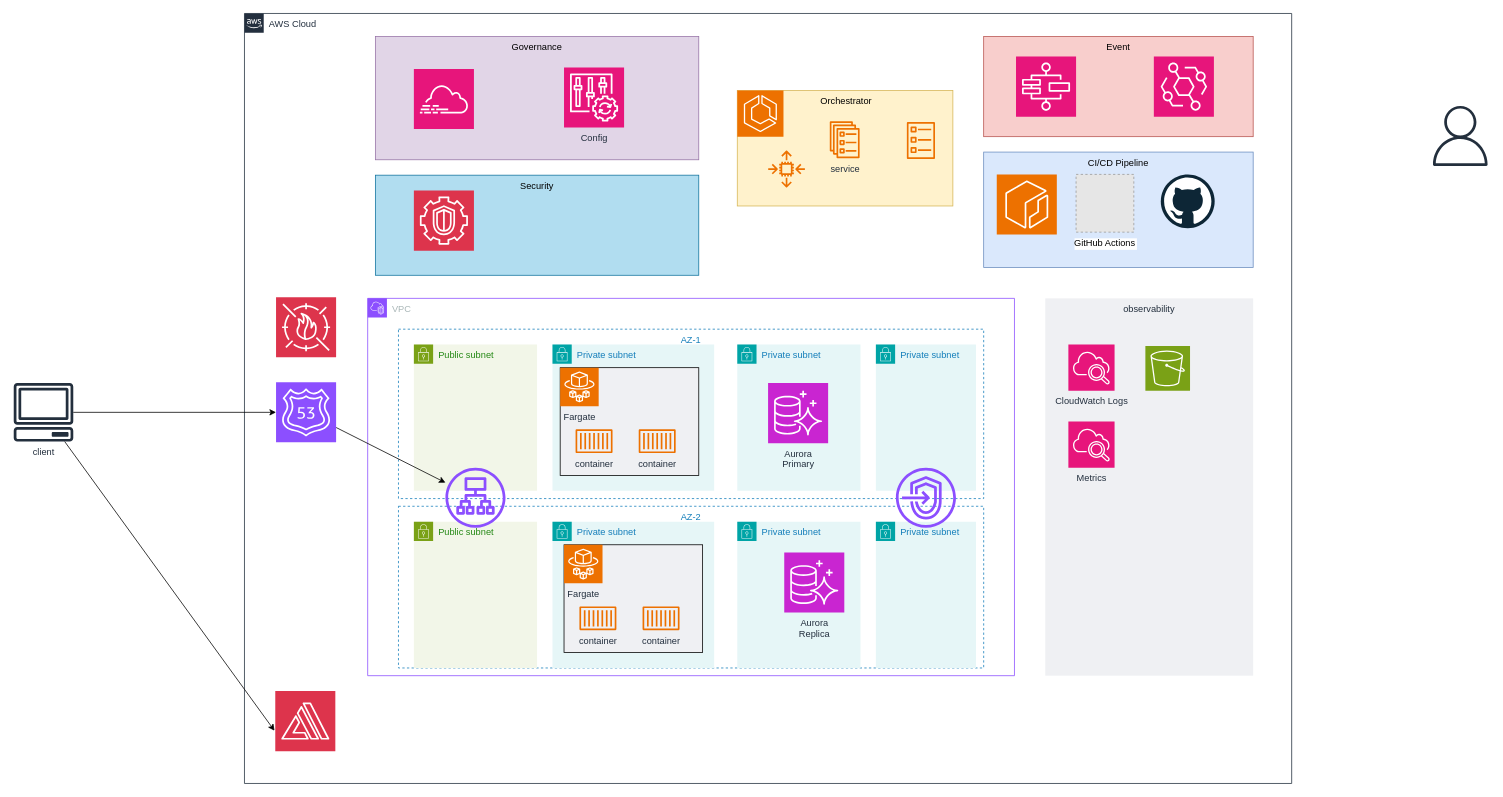
This 1503x797 diagram has some shape labels left out. Grey dashed boxes stand in for pictures. Each missing label, with the centre of its shape:
"ALB" belongs at point 475,497.
"Amplify（フロントエンド）" belongs at point 305,720.
"Auto scaling" belongs at point 786,168.
"CloudTrail" belongs at point 443,98.
"Developer" belongs at point 1460,135.
"ECR" belongs at point 1026,204.
"ECS" belongs at point 760,113.
"EventBridge" belongs at point 1183,86.
"GitHub" belongs at point 1187,201.
"GuardDuty" belongs at point 443,220.
"Route53" belongs at point 305,412.
"S3" belongs at point 1167,368.
"Step Functions" belongs at point 1045,86.
"Task definition" belongs at point 920,140.
"VPC endpoints" belongs at point 926,497.
"WAF" belongs at point 305,326.
